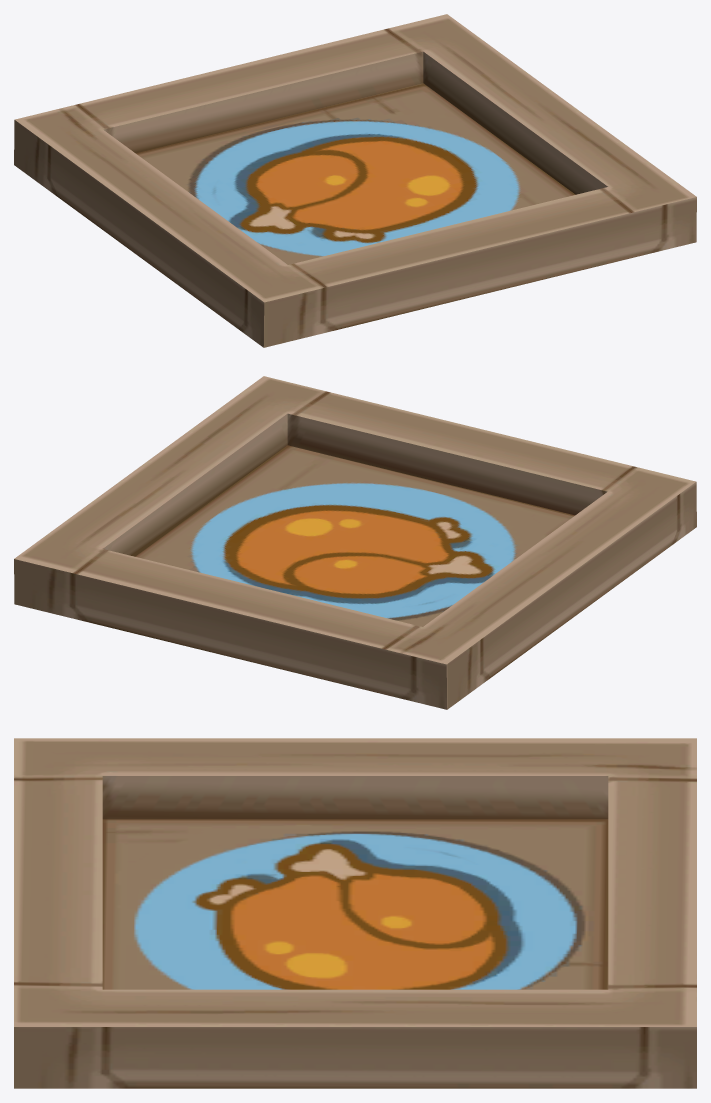
The model's file is CrateLid_Turkek.obj.
The picture shows the model from 3 angles, top to bottom: view 1: azimuth 30°, elevation 25°; view 2: azimuth 150°, elevation 25°; view 3: azimuth 270°, elevation 25°; orthographic projection. The views are drawn at different scales.
Parts seen in each view (by area): view 1: CrateLid_mesh-sharedassets2.assets-136; view 2: CrateLid_mesh-sharedassets2.assets-136; view 3: CrateLid_mesh-sharedassets2.assets-136.
Boxes of the visible parts, bbox=[...] form: CrateLid_mesh-sharedassets2.assets-136: bbox=[14, 14, 696, 347]; CrateLid_mesh-sharedassets2.assets-136: bbox=[14, 376, 696, 709]; CrateLid_mesh-sharedassets2.assets-136: bbox=[14, 738, 696, 1088].
Bounding box in the file's own units: 1 × 0.1 × 1.
